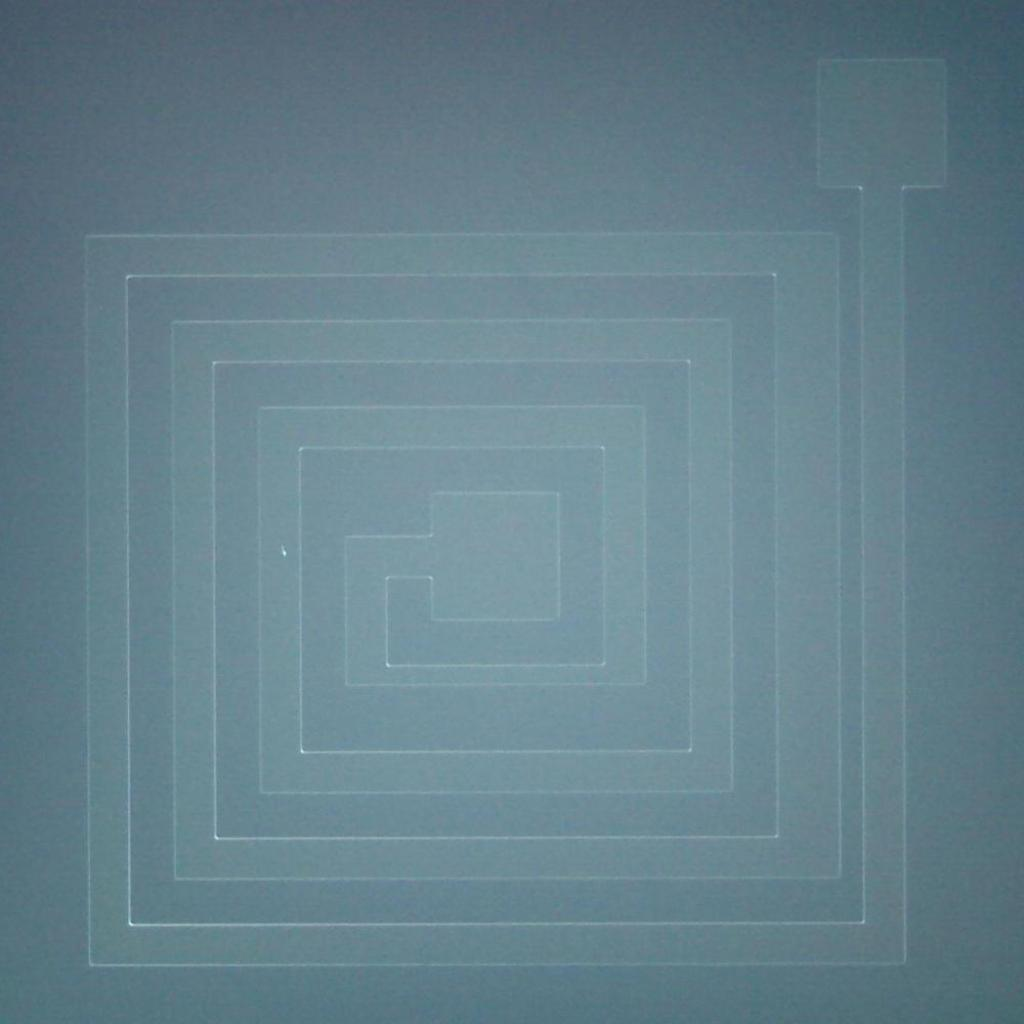fat circuit: (765, 225, 845, 894)
thin circuit: (333, 654, 654, 701)
